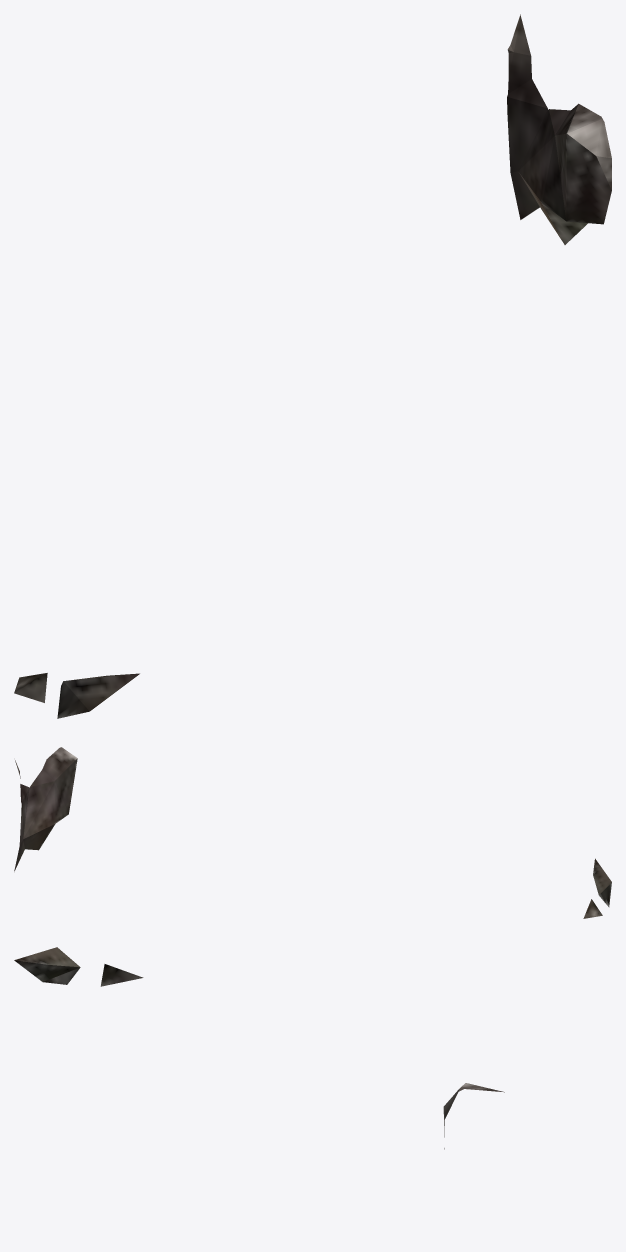
3 renders of one model, top to bottom at view 1: azimuth 30°, elevation 25°; view 2: azimuth 150°, elevation 25°; view 3: azimuth 270°, elevation 25°, orthographic. The views are drawn at different scales.
Bounding box in the file's own units: 0.4644 × 0.1718 × 0.3385.
1 material, 1 textured.
